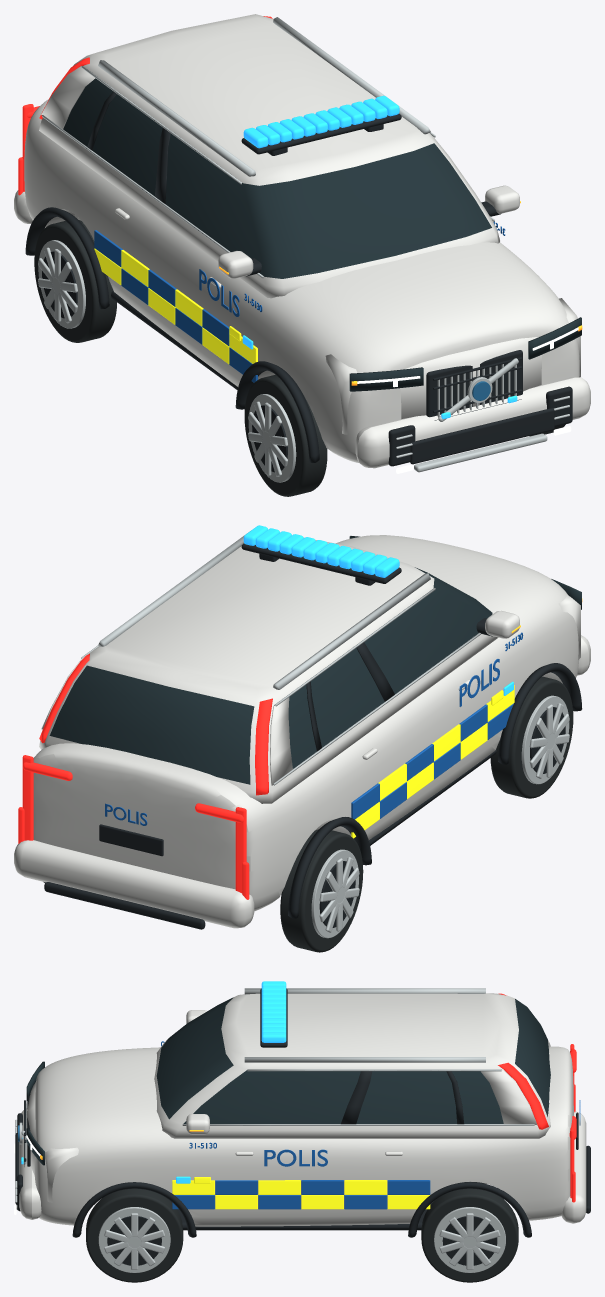
The model's file is volvo_xc60_polis.glb.
3 views of the same model, one above another, from view 1: azimuth 30°, elevation 25°; view 2: azimuth 150°, elevation 25°; view 3: azimuth 270°, elevation 25° (orthographic). The views are drawn at different scales.
Visible parts, largest first — view 1: XC60 glazed cabin and pearl roof, XC60 sculpted body shell, XC60 painted bumper fascia, XC60 pressed front mask, Performance tire XC60, Performance tire XC60.002, XC60 lower air intake, XC60 vertical grille shadow, XC60 black wheel arch moulding, XC60 black wheel arch moulding.002, XC60 roof rail, XC60 Rear roof pillar (+14 smaller); view 2: XC60 glazed cabin and pearl roof, XC60 sculpted body shell, XC60 rear bumper, Performance tire XC60.002, Performance tire XC60, XC60 black wheel arch moulding.002, XC60 black wheel arch moulding, XC60 rear valance, XC60 roof rail, XC60 Rear roof pillar, XC60 roof rail.001, XC60 pillar LED blade (+14 smaller); view 3: XC60 glazed cabin and pearl roof, XC60 sculpted body shell, Performance tire XC60.003, Performance tire XC60.001, XC60 Rear roof pillar.001, XC60 rear bumper, Diamond cut rim XC60.003, Diamond cut rim XC60.001, XC60 roof rail.001, XC60 side sill trim, XC60 black wheel arch moulding.001, XC60 black wheel arch moulding.003 (+23 smaller).
Part boxes in pixels (left/top/right/bottom): XC60 glazed cabin and pearl roof: left=39, top=14, right=499, bottom=298; XC60 sculpted body shell: left=24, top=99, right=579, bottom=462; XC60 painted bumper fascia: left=355, top=377, right=590, bottom=468; XC60 pressed front mask: left=325, top=298, right=580, bottom=434; Performance tire XC60: left=244, top=374, right=327, bottom=496; Performance tire XC60.002: left=34, top=220, right=116, bottom=342; XC60 lower air intake: left=410, top=408, right=554, bottom=464; XC60 vertical grille shadow: left=426, top=350, right=522, bottom=417; XC60 black wheel arch moulding: left=235, top=361, right=319, bottom=462; XC60 black wheel arch moulding.002: left=25, top=207, right=109, bottom=308; XC60 roof rail: left=98, top=60, right=255, bottom=176; XC60 Rear roof pillar: left=41, top=66, right=95, bottom=128; XC60 glazed cabin and pearl roof: left=39, top=537, right=498, bottom=803; XC60 sculpted body shell: left=33, top=535, right=579, bottom=911; XC60 rear bumper: left=14, top=840, right=254, bottom=928; Performance tire XC60.002: left=280, top=829, right=363, bottom=952; Performance tire XC60: left=490, top=676, right=573, bottom=798; XC60 black wheel arch moulding.002: left=288, top=817, right=371, bottom=918; XC60 black wheel arch moulding: left=498, top=663, right=582, bottom=764; XC60 rear valance: left=44, top=882, right=205, bottom=929; XC60 roof rail: left=273, top=573, right=430, bottom=689; XC60 Rear roof pillar: left=270, top=697, right=292, bottom=785; XC60 roof rail.001: left=98, top=535, right=244, bottom=646; XC60 pillar LED blade: left=255, top=698, right=272, bottom=795; XC60 glazed cabin and pearl roof: left=154, top=993, right=550, bottom=1138; XC60 sculpted body shell: left=34, top=1046, right=573, bottom=1226; Performance tire XC60.003: left=421, top=1188, right=518, bottom=1282; Performance tire XC60.001: left=86, top=1188, right=183, bottom=1282; XC60 Rear roof pillar.001: left=481, top=1070, right=536, bottom=1124; XC60 rear bumper: left=561, top=1111, right=586, bottom=1223; Diamond cut rim XC60.003: left=434, top=1207, right=505, bottom=1272; Diamond cut rim XC60.001: left=98, top=1207, right=170, bottom=1272; XC60 roof rail.001: left=244, top=1057, right=485, bottom=1062; XC60 side sill trim: left=168, top=1182, right=462, bottom=1230; XC60 black wheel arch moulding.001: left=72, top=1182, right=196, bottom=1237; XC60 black wheel arch moulding.003: left=408, top=1182, right=531, bottom=1237.
Bounding box in the file's own units: 2.39 × 2.17 × 5.09.
